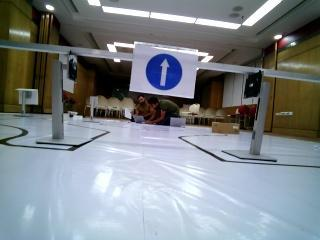straight: (133, 41, 192, 96)
